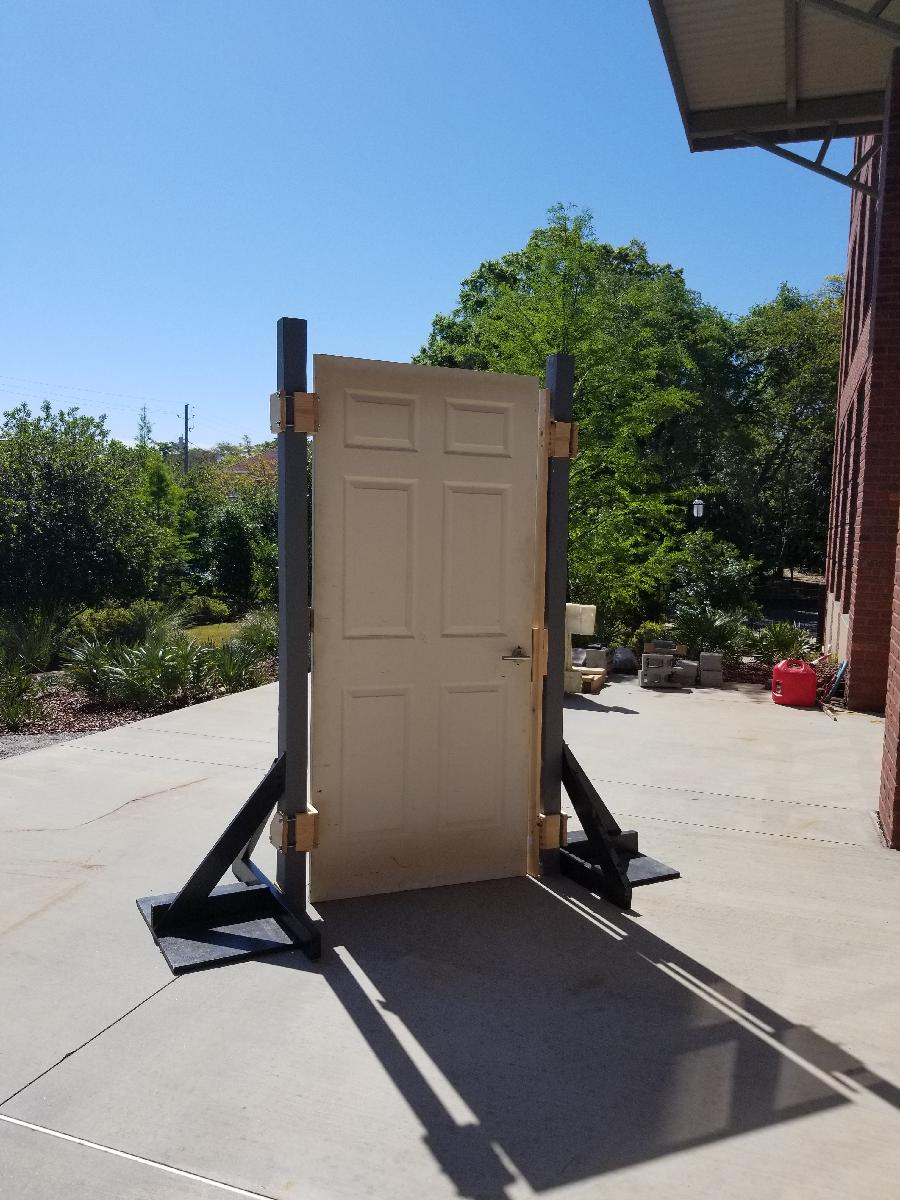door: (304, 350, 542, 908)
doorHandle: (500, 635, 536, 677)
